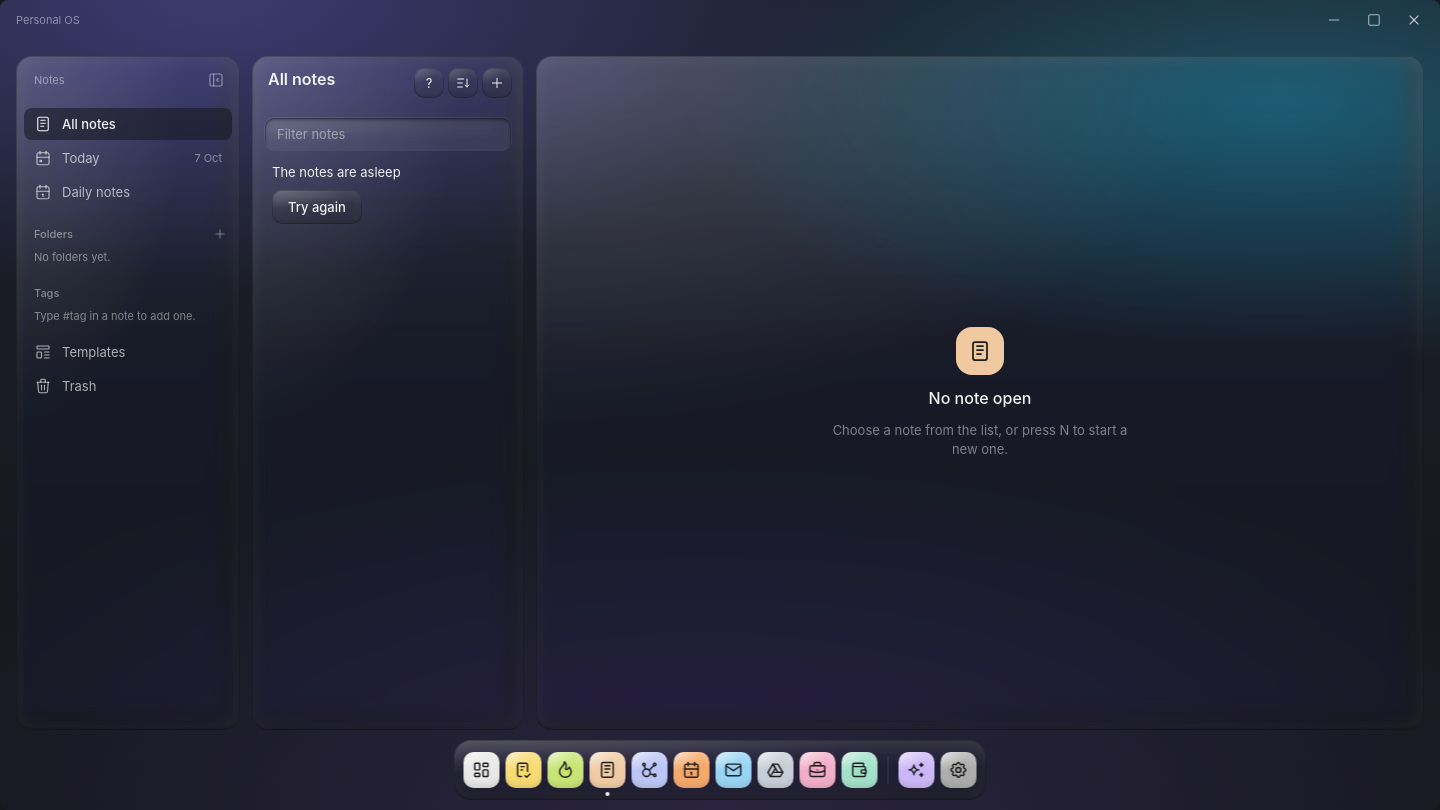
Test: the list states › shows the server message with a Try again button when loading fails
Expected: the text "The notes are asleep" is shown, [272,163,401,182]
What coordinates should you click on to do the following:
click the button "Try again"
I would click on:
 (317, 207)
Its box is [272,190,362,224].
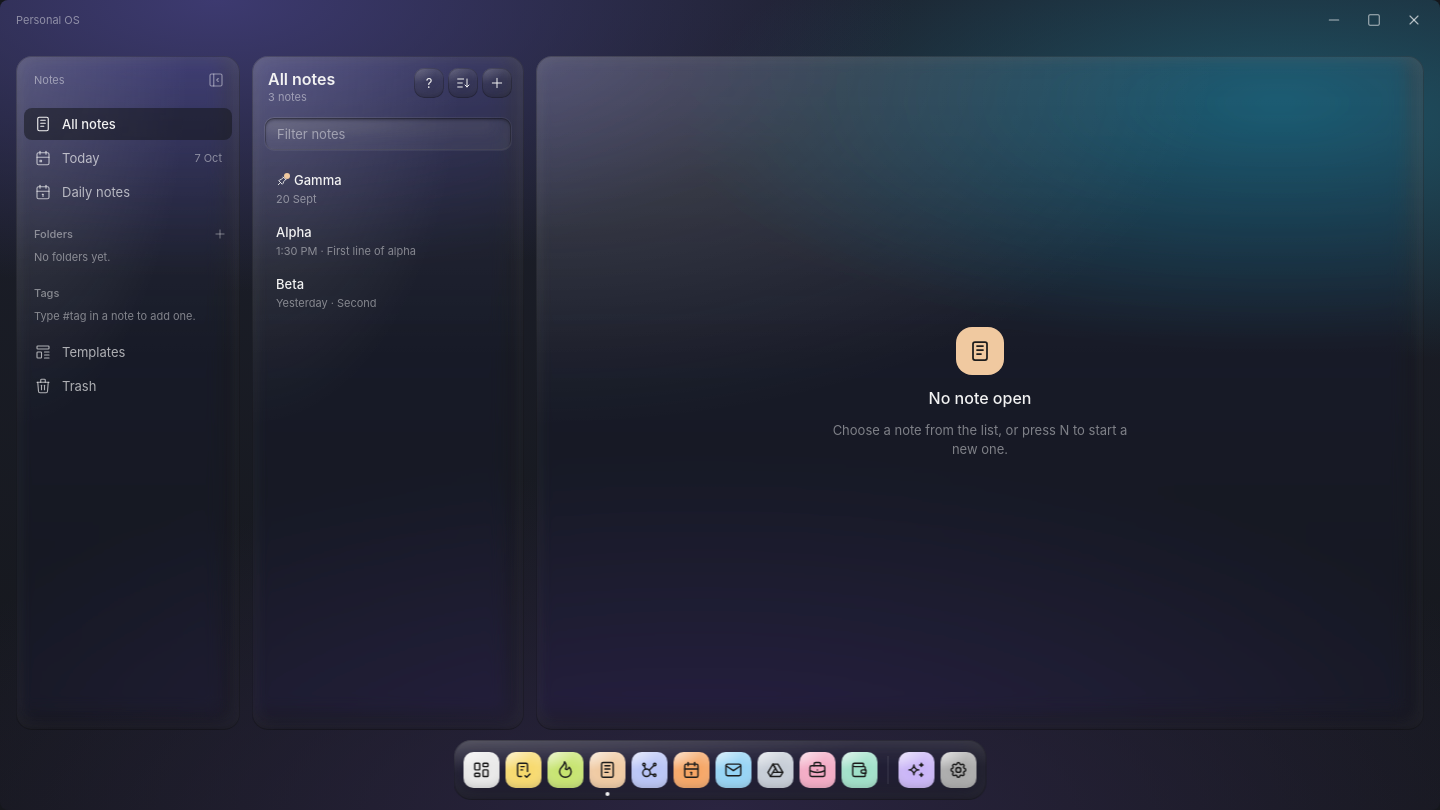
Result: the text "Alpha" is shown at [276,223,312,242]
